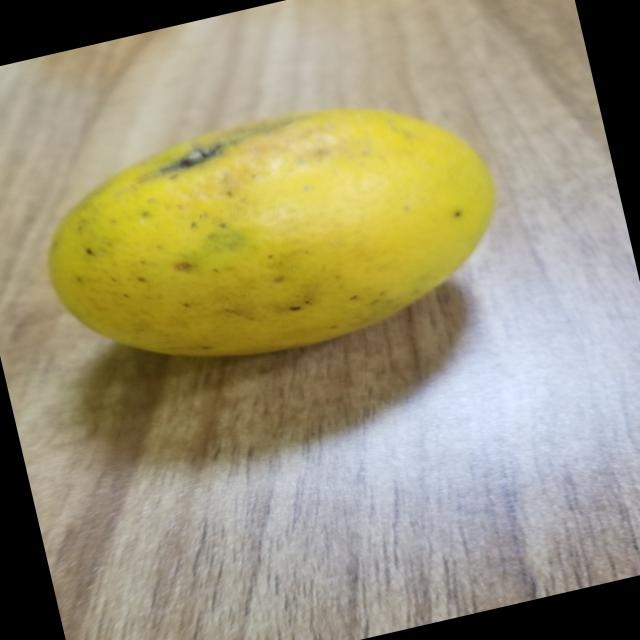agrume: (0, 53, 534, 411)
